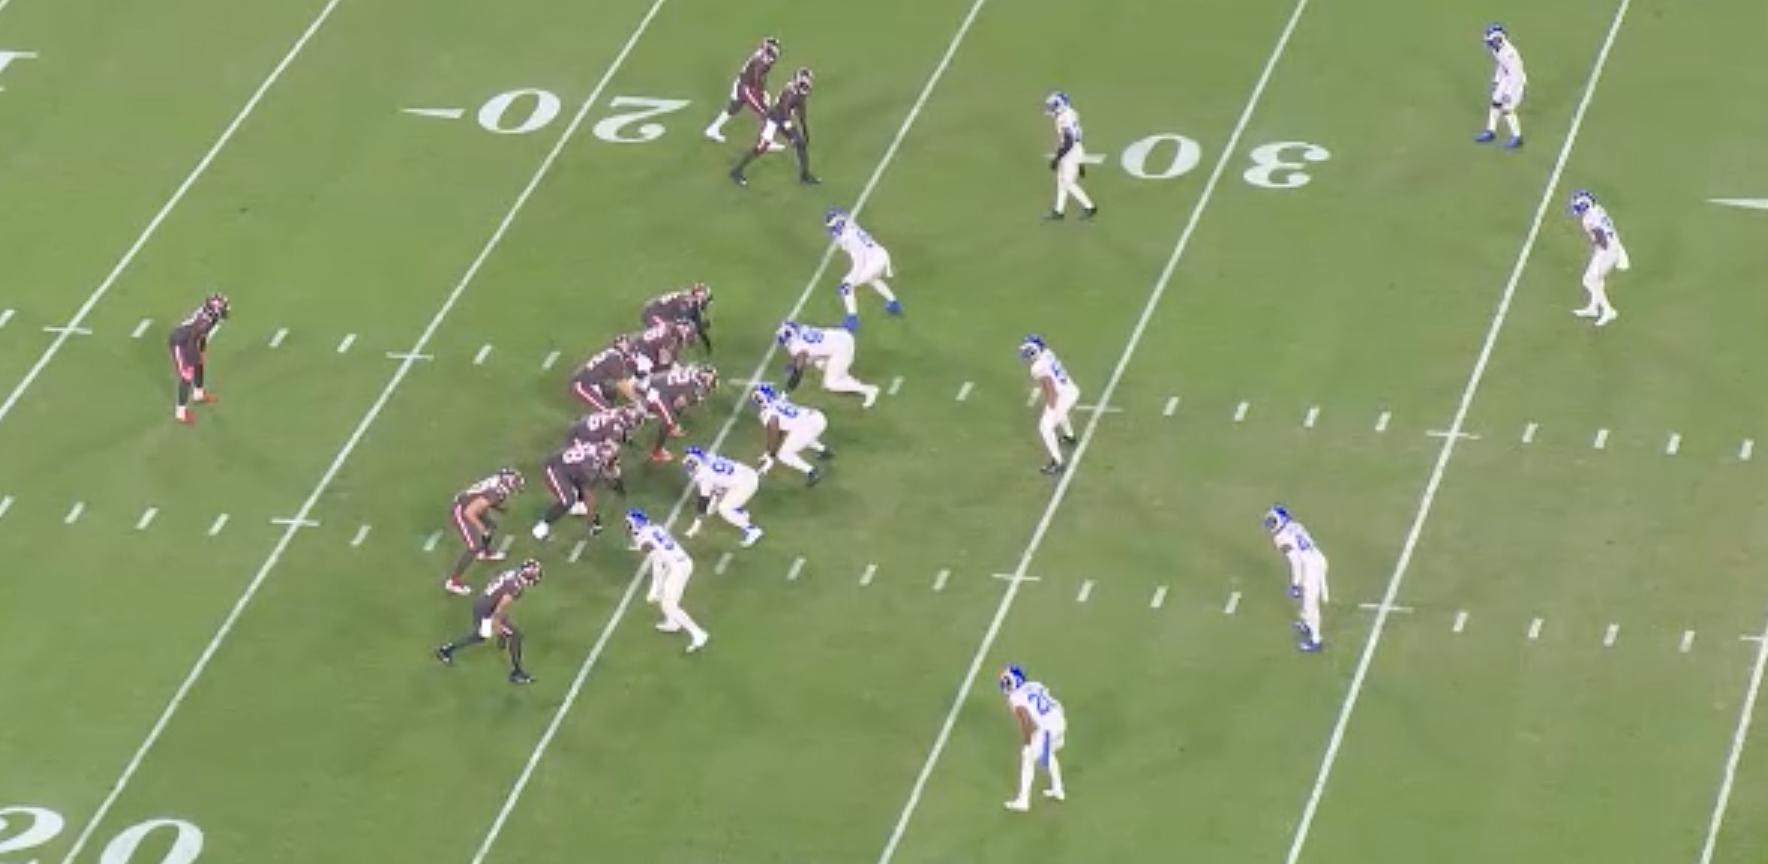player: (441, 557, 555, 692), (621, 504, 711, 662), (725, 67, 829, 198), (435, 460, 525, 599), (991, 664, 1069, 824), (1269, 506, 1339, 661), (705, 30, 792, 152), (772, 319, 881, 416), (819, 209, 905, 331), (681, 442, 776, 552), (743, 380, 834, 491), (166, 293, 238, 433), (1013, 333, 1079, 481), (624, 360, 715, 465), (533, 436, 622, 543), (1564, 185, 1628, 332), (1034, 85, 1096, 226), (1477, 23, 1535, 160), (565, 406, 646, 491), (637, 283, 718, 362), (569, 330, 637, 413), (621, 320, 700, 383)
